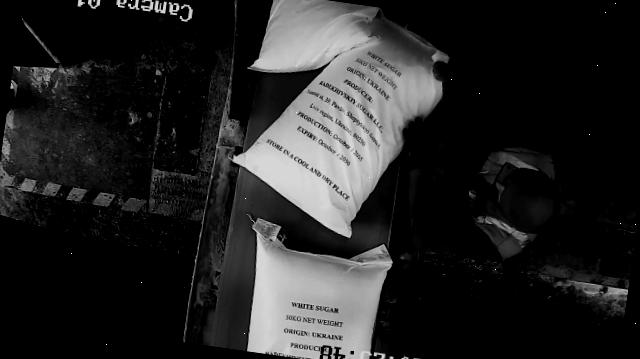bag: (223, 0, 452, 247), (234, 215, 393, 359), (246, 0, 379, 86)
